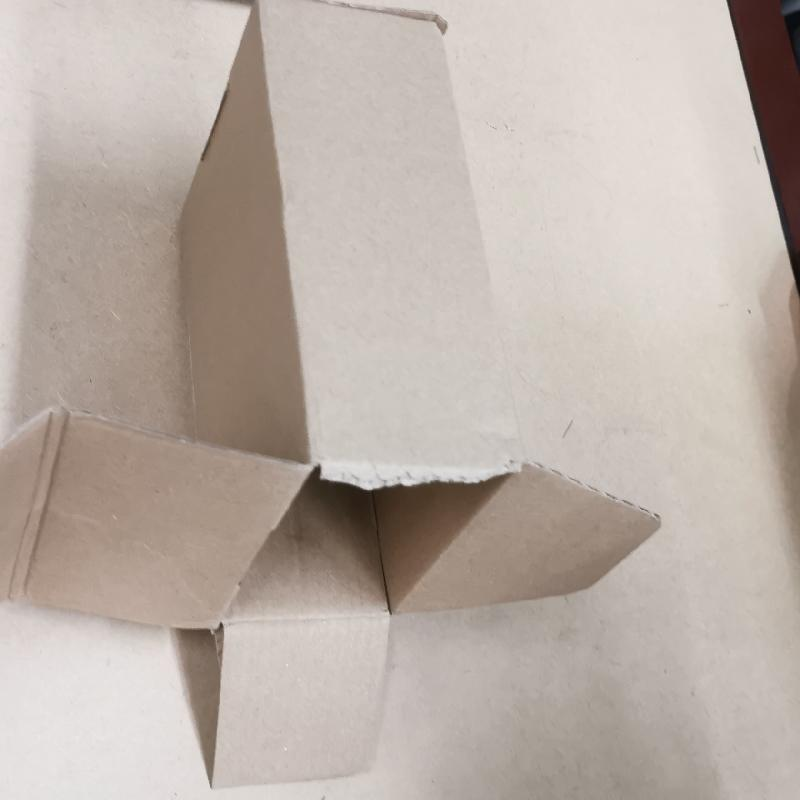boxes: (44, 5, 665, 791)
